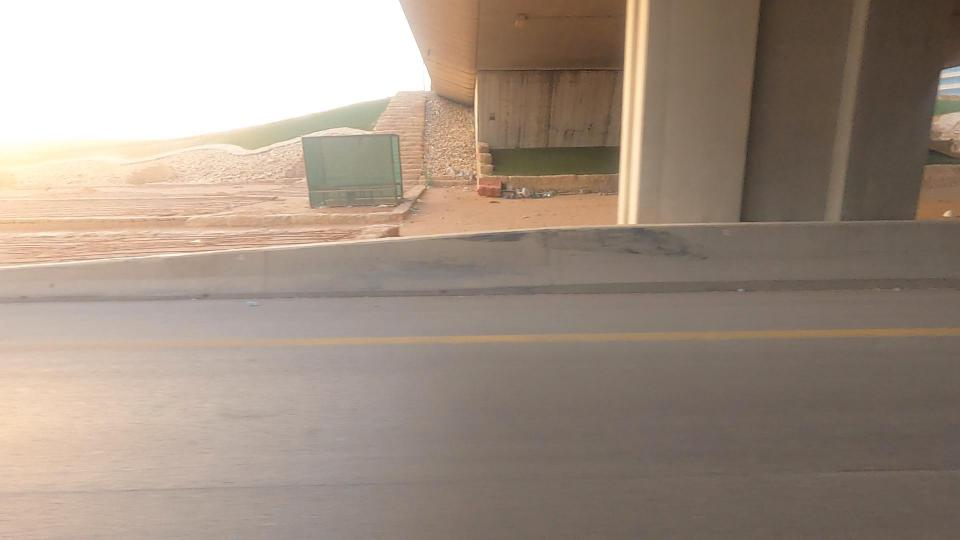CONSTRUCTION_ROAD: (35, 133, 375, 294), (0, 126, 189, 288), (377, 147, 636, 261)
